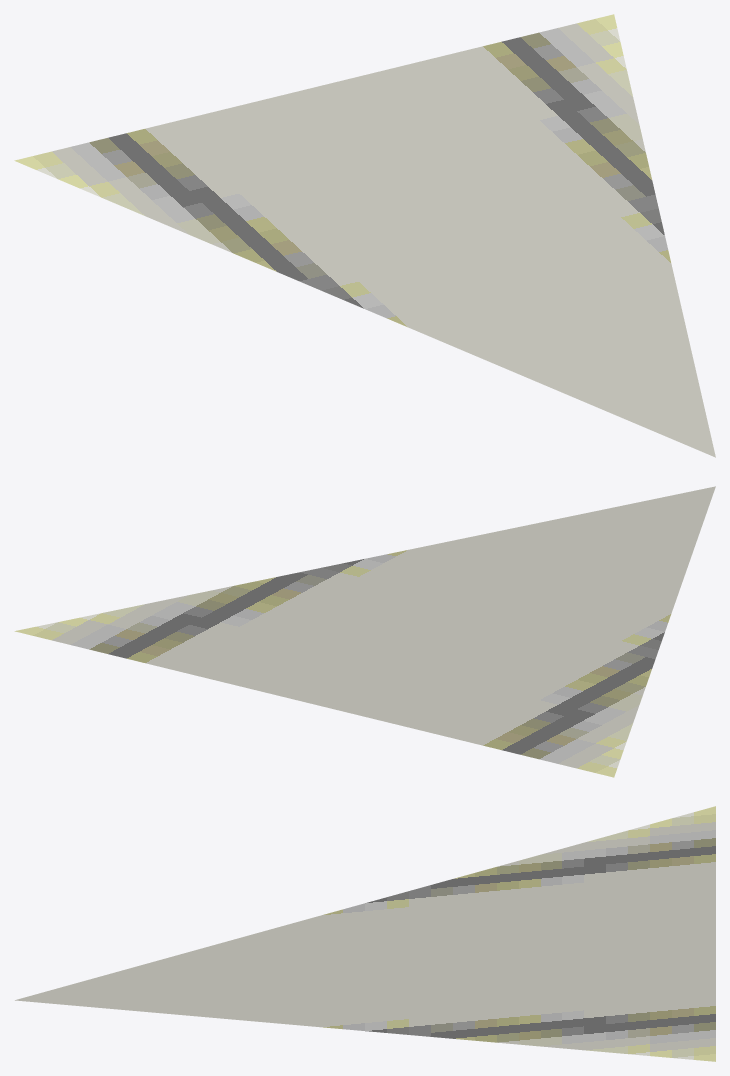
The picture shows the model from 3 angles, top to bottom: view 1: azimuth 30°, elevation 25°; view 2: azimuth 150°, elevation 25°; view 3: azimuth 270°, elevation 25°; orthographic projection. The views are drawn at different scales.
Visible parts, largest first — view 1: HoverBomberY_Skel_part01; view 2: HoverBomberY_Skel_part01; view 3: HoverBomberY_Skel_part01.
Boxes of the visible parts, x1=… form: HoverBomberY_Skel_part01: x1=14, y1=14, x2=715, y2=457; HoverBomberY_Skel_part01: x1=14, y1=486, x2=715, y2=777; HoverBomberY_Skel_part01: x1=15, y1=806, x2=715, y2=1061.
Bounding box in the file's own units: 0.2246 × 0.0272 × 0.2605.
Materials: 1 (1 with a texture image).
